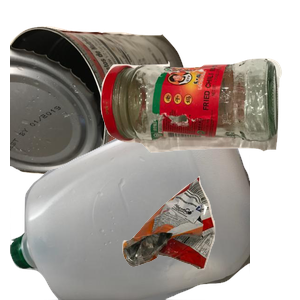glass: (98, 56, 300, 201)
metal: (10, 23, 193, 194)
plastic: (10, 120, 250, 300)
trash: (120, 174, 300, 300)
